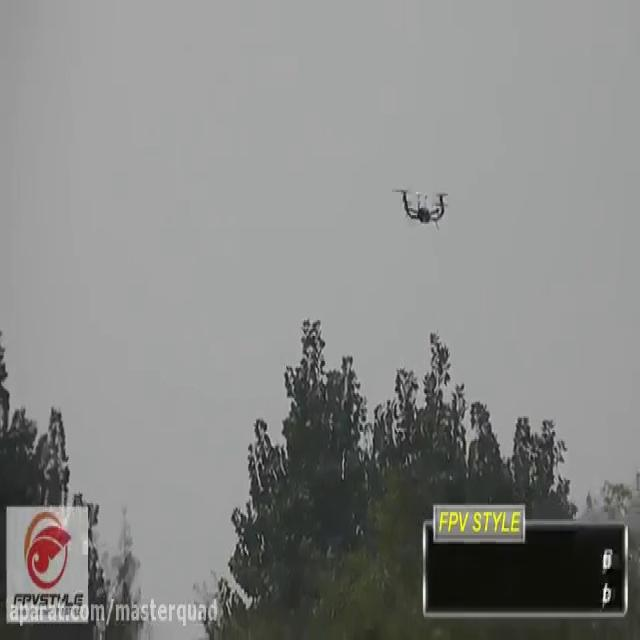drone: (389, 180, 451, 228)
